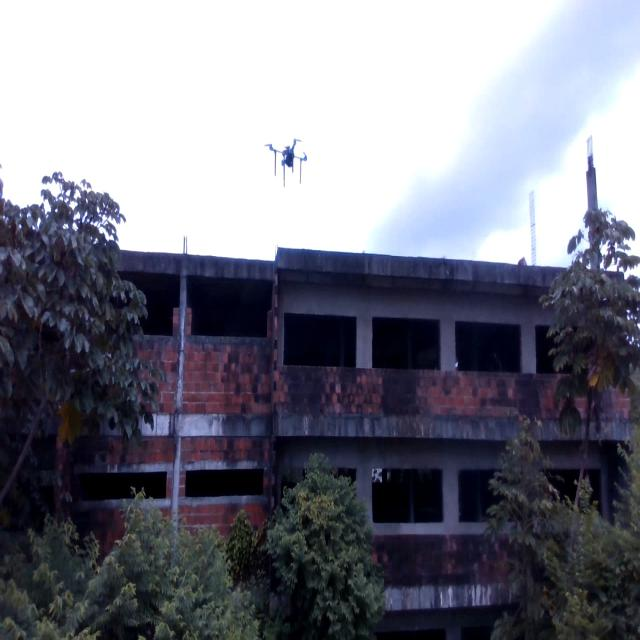-uav-: (267, 127, 311, 195)
